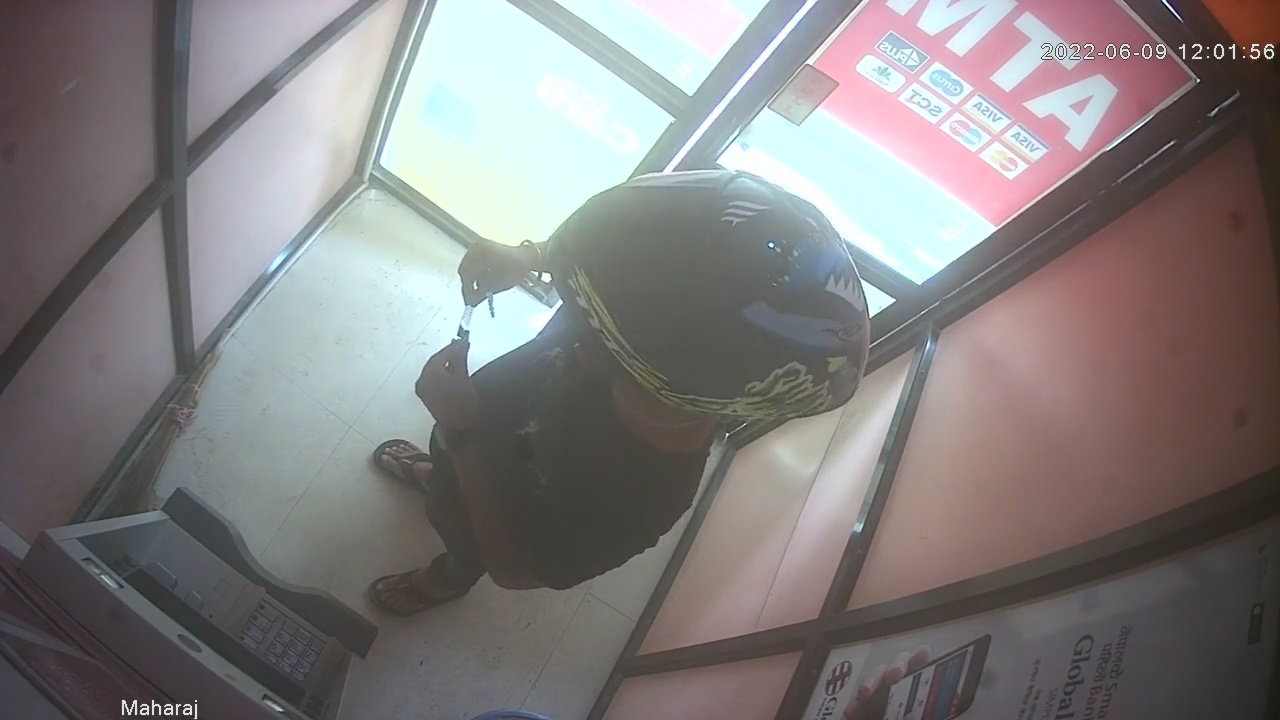helmet: (542, 170, 865, 424)
person: (369, 170, 871, 620)
